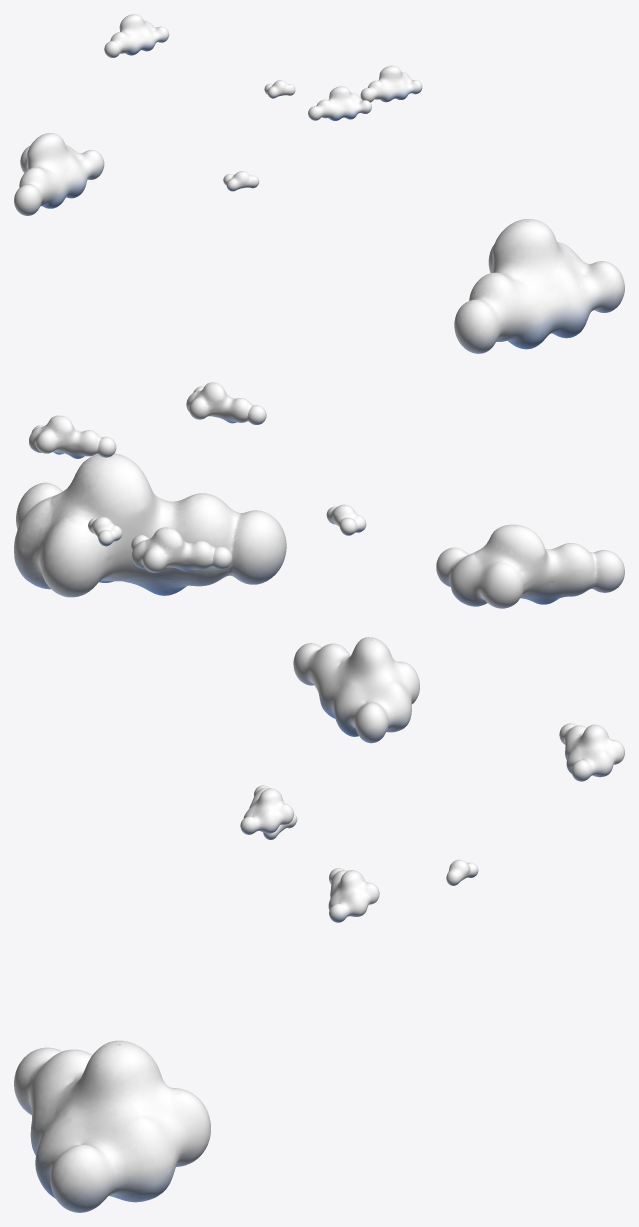
Rendered from cloud_All.glb.
3 renders of one model, top to bottom at view 1: azimuth 30°, elevation 25°; view 2: azimuth 150°, elevation 25°; view 3: azimuth 270°, elevation 25°, orthographic. The views are drawn at different scales.
Parts seen in each view (by area): view 1: cloud_G, cloud_A, cloud_B, cloud_F, cloud_D, cloud_C; view 2: cloud_G, cloud_A, cloud_B, cloud_F, cloud_D, cloud_C, cloud_E; view 3: cloud_G, cloud_A, cloud_B, cloud_F, cloud_D.
Part boxes in pixels (x1=…): cloud_G: x1=454, y1=219, x2=624, y2=353; cloud_A: x1=14, y1=133, x2=104, y2=215; cloud_B: x1=104, y1=14, x2=169, y2=57; cloud_F: x1=360, y1=65, x2=422, y2=102; cloud_D: x1=308, y1=86, x2=371, y2=120; cloud_C: x1=223, y1=171, x2=259, y2=191; cloud_G: x1=14, y1=453, x2=286, y2=597; cloud_A: x1=436, y1=524, x2=624, y2=608; cloud_B: x1=131, y1=527, x2=232, y2=572; cloud_F: x1=29, y1=415, x2=116, y2=458; cloud_D: x1=186, y1=382, x2=266, y2=424; cloud_C: x1=326, y1=504, x2=366, y2=535; cloud_E: x1=88, y1=516, x2=122, y2=546; cloud_G: x1=14, y1=1040, x2=210, y2=1212; cloud_A: x1=293, y1=637, x2=419, y2=743; cloud_B: x1=559, y1=723, x2=624, y2=781; cloud_F: x1=328, y1=868, x2=379, y2=922; cloud_D: x1=240, y1=785, x2=293, y2=834.
Size of the model in its own units: 43.18 by 18.82 by 32.65.
1 material, 1 textured.
